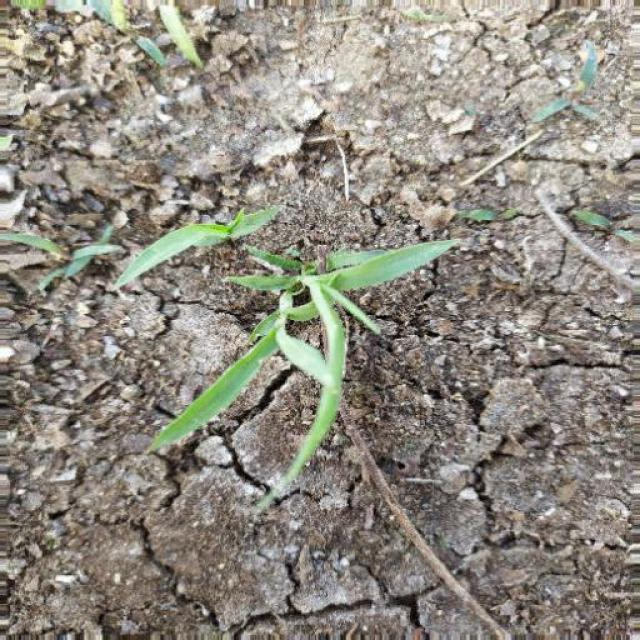weed: (106, 195, 470, 519)
